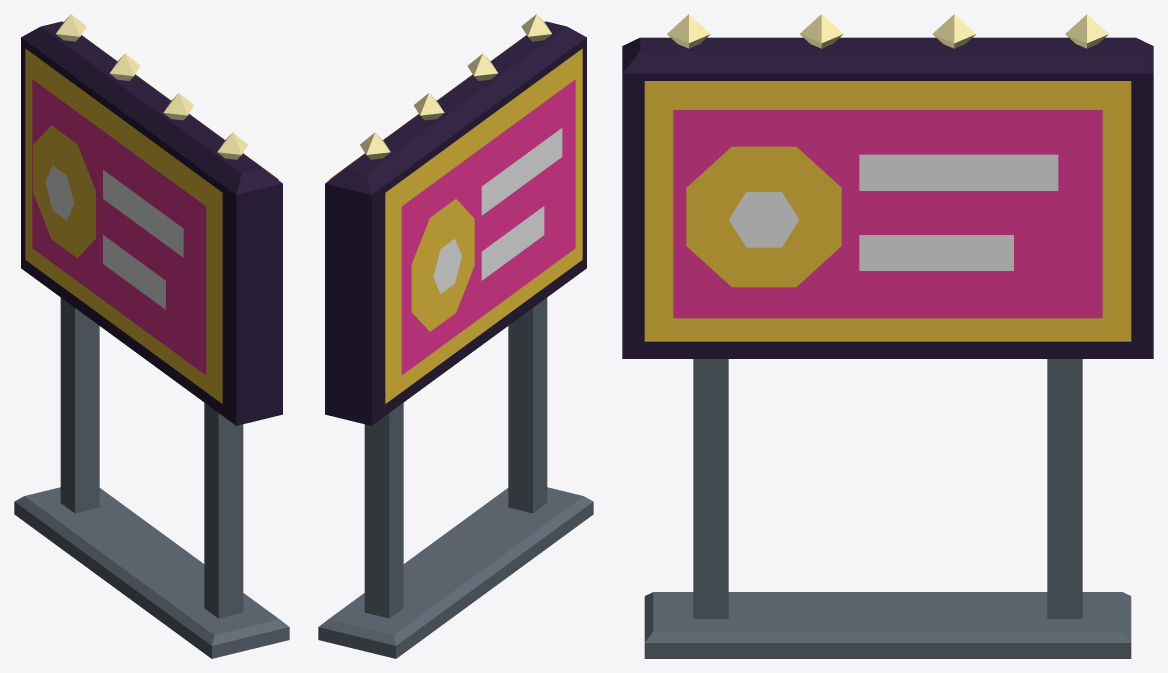
File: shop_sign.glb
The picture shows the model from 3 angles, left to right: view 1: azimuth 30°, elevation 25°; view 2: azimuth 150°, elevation 25°; view 3: azimuth 270°, elevation 25°; orthographic projection. The views are drawn at different scales.
Visible parts, largest first — view 1: shop_sign; view 2: shop_sign; view 3: shop_sign.
Boxes of the visible parts, left/top/right/bottom form: shop_sign: left=14, top=14, right=289, bottom=658; shop_sign: left=318, top=14, right=593, bottom=658; shop_sign: left=622, top=14, right=1153, bottom=658.
Bounding box in the file's own units: 0.054 × 0.31 × 0.24.
